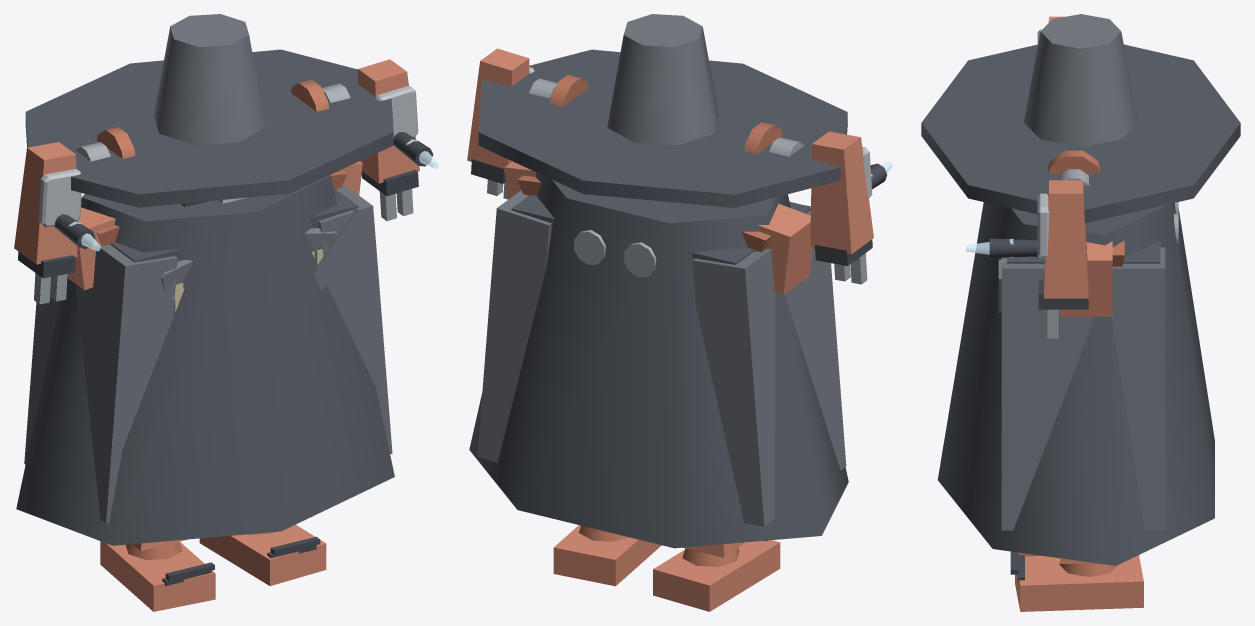
The model's file is saturn-warden-mixer-v1.glb.
3 views of the same model, side by side, from view 1: azimuth 30°, elevation 25°; view 2: azimuth 150°, elevation 25°; view 3: azimuth 270°, elevation 25° (orthographic).
Parts seen in each view (by area): view 1: object 20, object 43, object 22, Warden Mech Mixer, object 44, object 23, object 6, object 13, object 7, object 46, object 14, object 21 (+4 smaller); view 2: object 20, object 43, object 22, Warden Mech Mixer, object 44, object 23, object 6, object 13, object 21, object 8; view 3: object 20, object 43, object 23, object 44, Warden Mech Mixer, object 13, object 18, object 21, object 14, object 15.
Boxes of the visible parts, x1,y1,x2,y2 form: object 20: [16, 175, 394, 545]; object 43: [25, 49, 393, 207]; object 22: [24, 244, 177, 523]; Warden Mech Mixer: [67, 79, 362, 611]; object 44: [154, 14, 265, 144]; object 23: [318, 185, 392, 454]; object 6: [14, 142, 77, 264]; object 13: [358, 59, 419, 183]; object 7: [38, 169, 81, 227]; object 46: [314, 207, 371, 290]; object 14: [375, 85, 418, 137]; object 21: [110, 188, 358, 262]; object 20: [469, 172, 848, 548]; object 43: [478, 49, 847, 207]; object 22: [692, 205, 846, 526]; Warden Mech Mixer: [504, 75, 812, 611]; object 44: [607, 14, 718, 144]; object 23: [477, 190, 551, 462]; object 6: [810, 131, 873, 254]; object 13: [467, 48, 529, 171]; object 21: [511, 195, 810, 264]; object 8: [815, 239, 872, 265]; object 20: [937, 202, 1214, 565]; object 43: [921, 44, 1240, 223]; object 23: [1001, 247, 1165, 530]; object 44: [1024, 14, 1137, 146]; Warden Mech Mixer: [1001, 150, 1178, 611]; object 13: [1043, 180, 1088, 298]; object 18: [989, 238, 1037, 258]; object 21: [1007, 238, 1160, 263]; object 14: [1037, 193, 1049, 258]; object 15: [1038, 280, 1088, 309].
Bounding box in the file's own units: 8.4 × 11.25 × 6.05.
